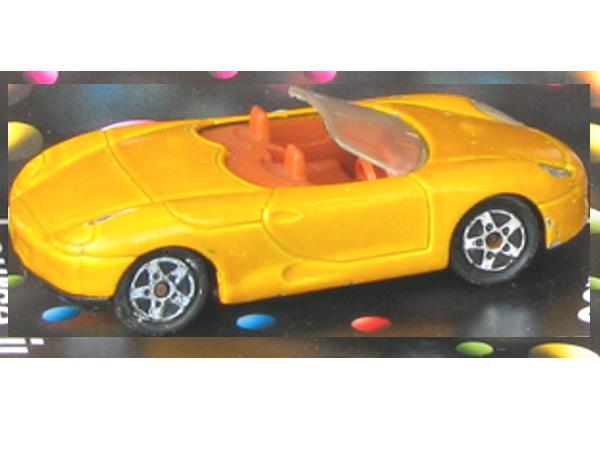toy-car: (8, 85, 590, 338)
